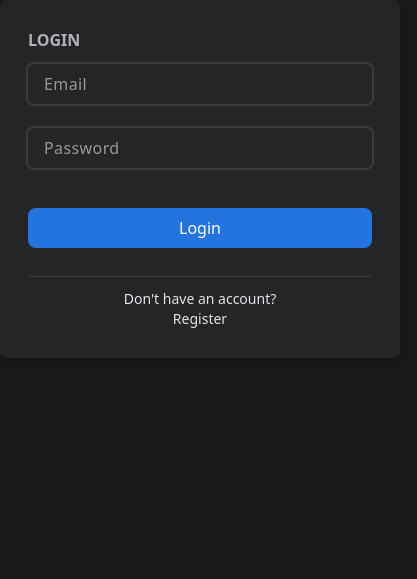
Scenario: Authorization component tests › can redirect between forms
Click the text "Don't have an account?". click: (200, 298)
box: [124,289,276,308]
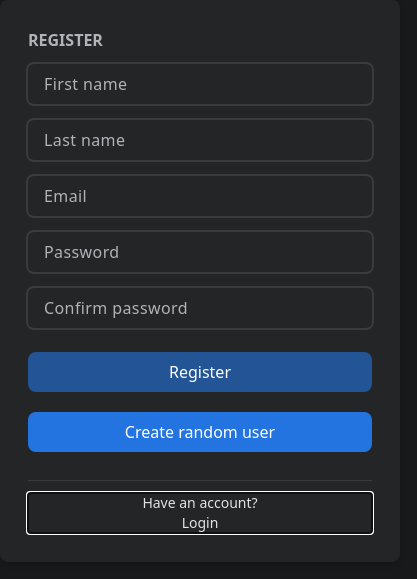
Now the button "Register" is shown, box [28,352,372,392]
Click the text "Have an account?". click: (200, 502)
box: [142,493,258,512]
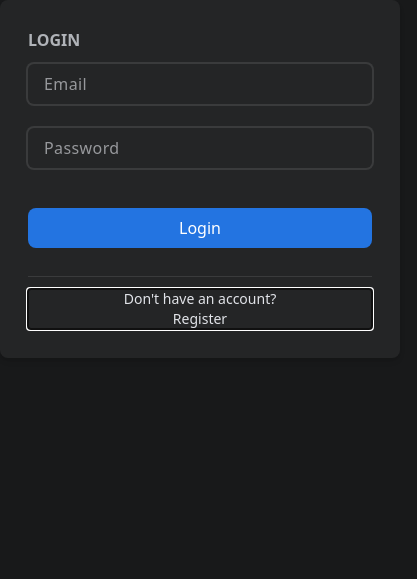
Now the button "Login" is shown, box [28,208,372,248]
